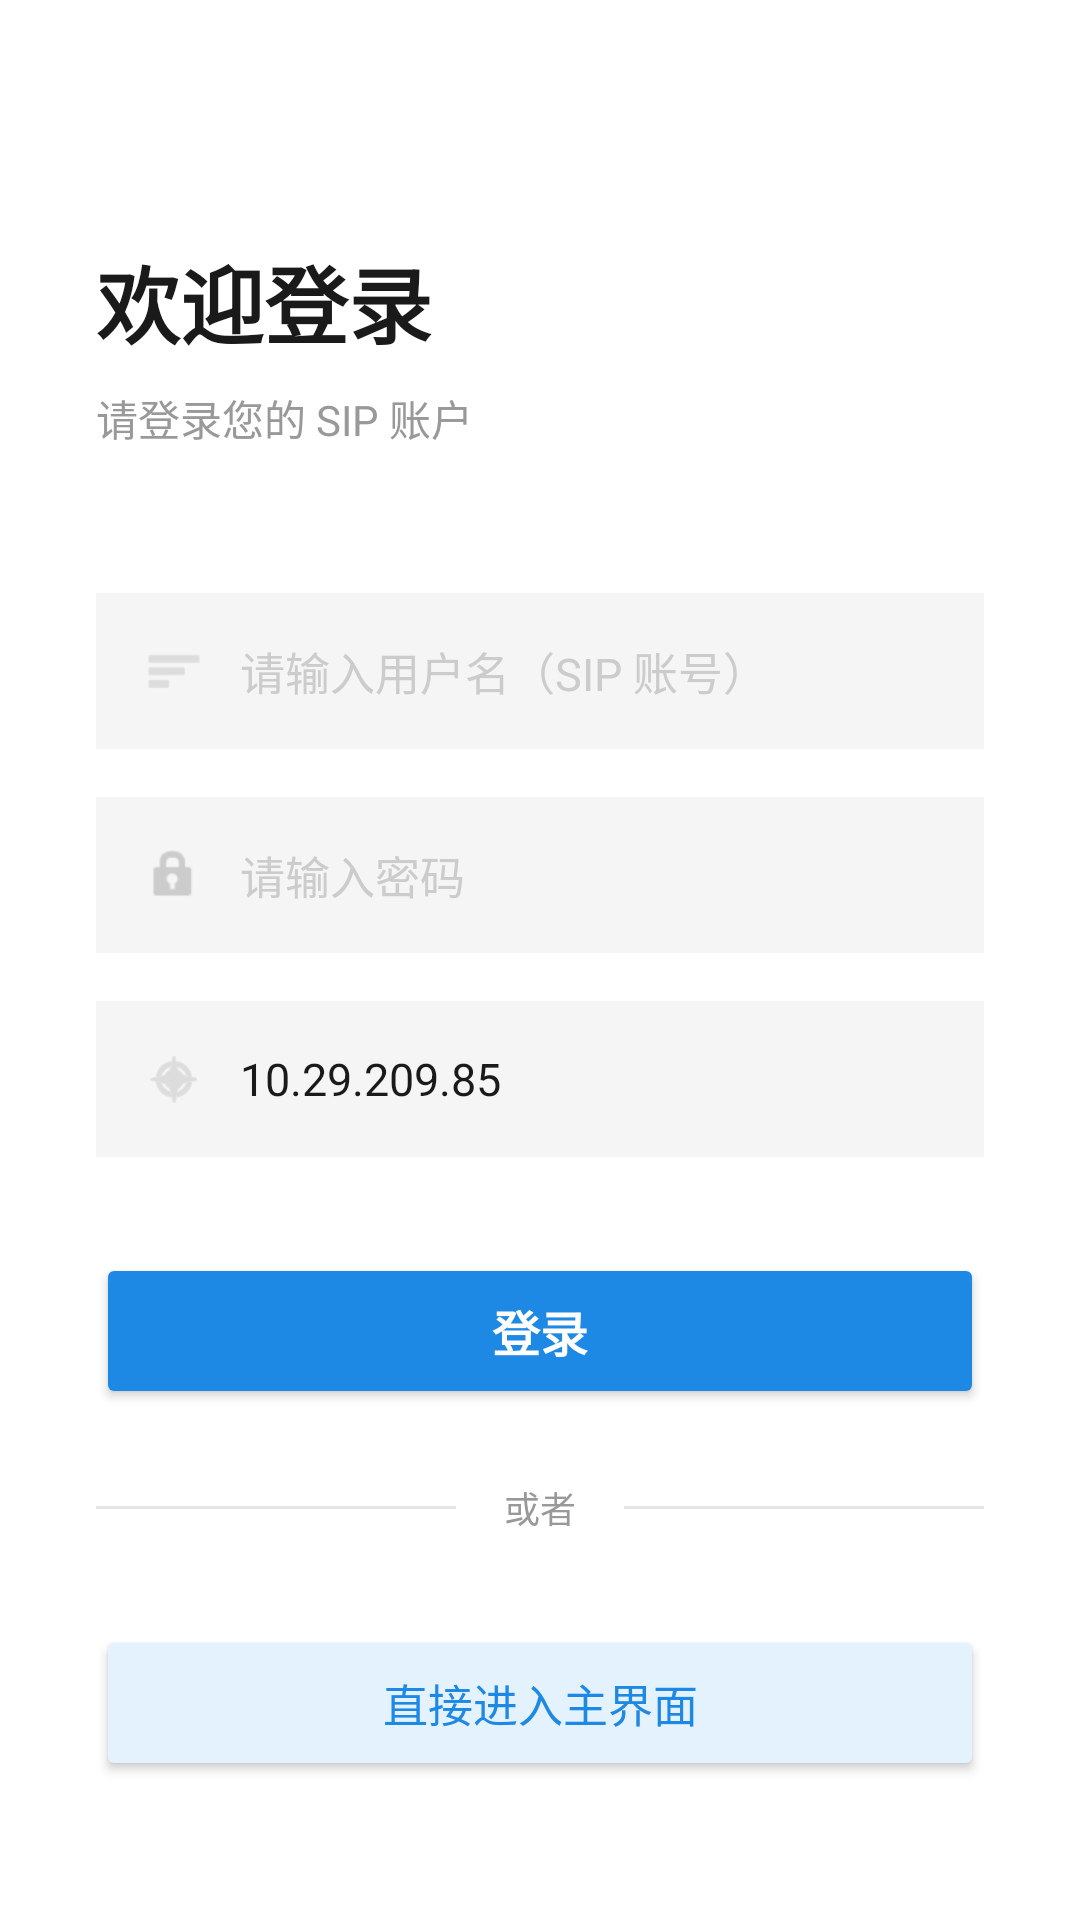

Screen size 1080 x 1920. Icon name, then its center in pixels as [x,y]:
lock idle: [172,873]
sort by size: [174,671]
